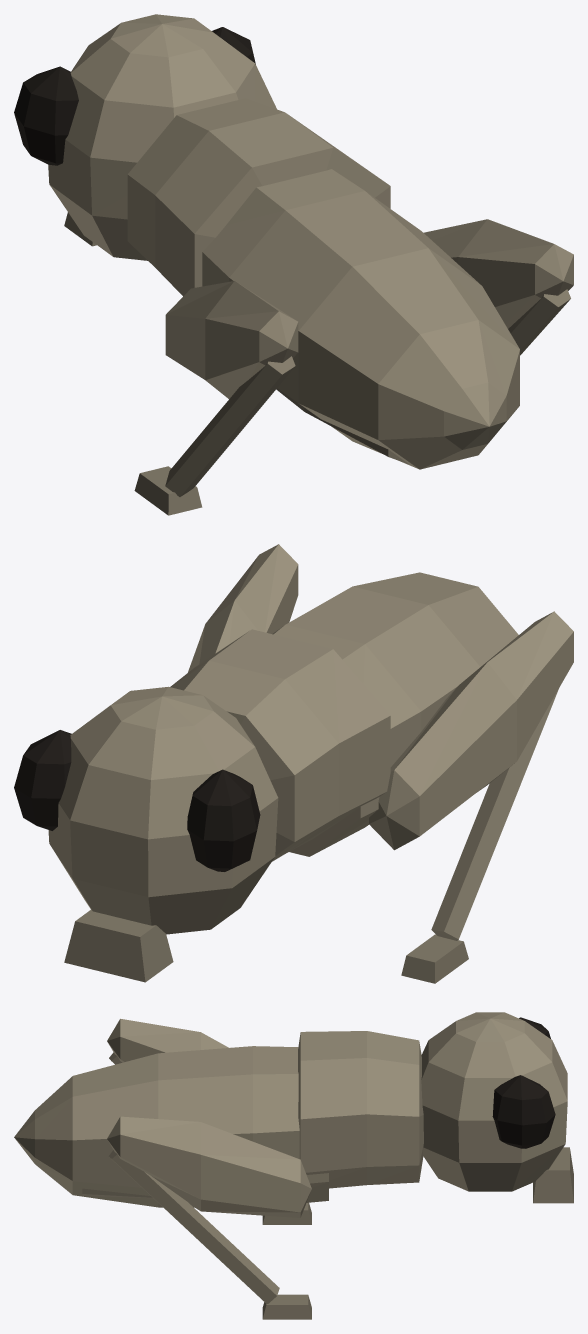
File: animal_locust_bones.obj
3 renders of one model, top to bottom at view 1: azimuth 30°, elevation 25°; view 2: azimuth 150°, elevation 25°; view 3: azimuth 270°, elevation 25°, orthographic. The views are drawn at different scales.
Bounding box in the file's own units: 0.34 × 0.3514 × 0.7198.
